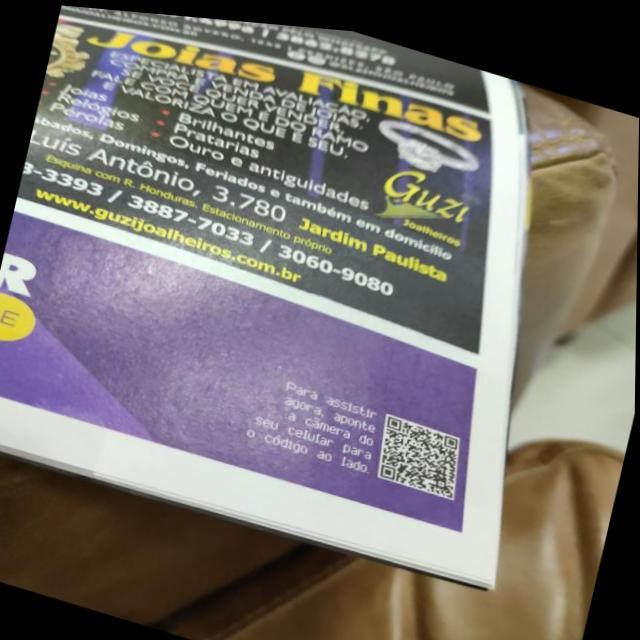qrcode: (377, 409, 468, 491)
